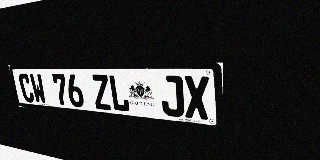6: (65, 74, 85, 108)
7: (51, 74, 70, 106)
C: (17, 74, 35, 103)
J: (159, 75, 185, 118)
L: (108, 75, 130, 112)
W: (29, 74, 47, 104)
X: (183, 76, 210, 120)
Z: (91, 74, 112, 110)
